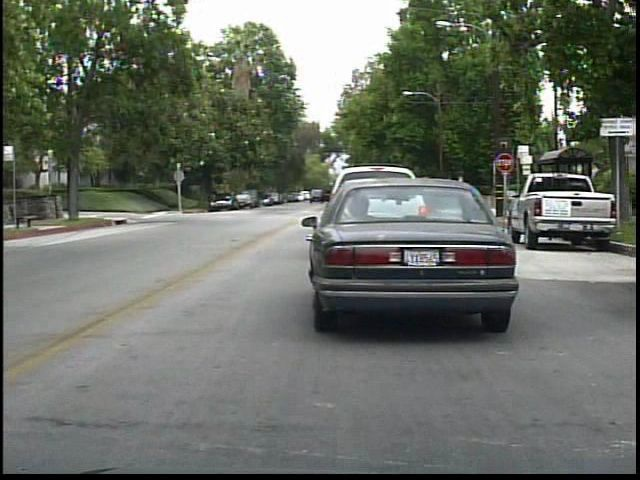person: (233, 183, 248, 210)
